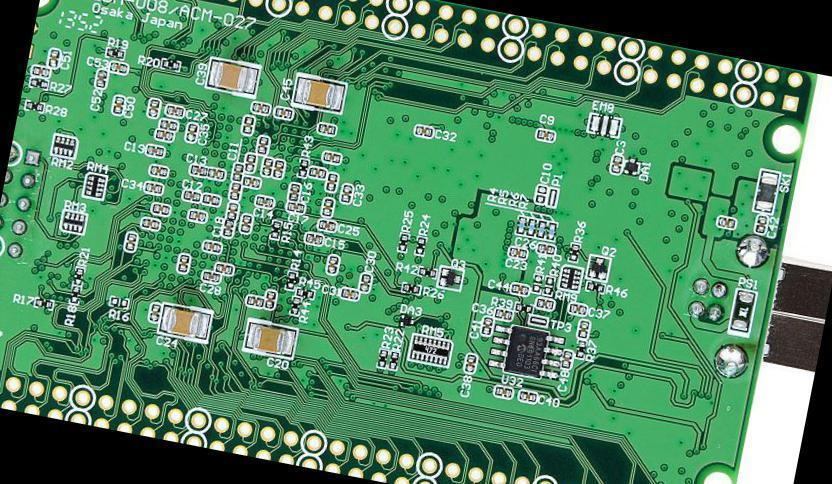Capacitor: (242, 317, 297, 359), (156, 302, 211, 342), (204, 57, 260, 96), (291, 73, 346, 112), (607, 152, 624, 175), (337, 183, 353, 206), (412, 122, 434, 138), (314, 120, 336, 136), (322, 170, 338, 192), (319, 194, 335, 216), (185, 207, 207, 223), (213, 260, 235, 276), (492, 382, 514, 398), (575, 317, 590, 340), (262, 287, 277, 310), (249, 99, 270, 115), (240, 113, 255, 135), (110, 94, 125, 116), (152, 127, 174, 142), (259, 155, 274, 177), (143, 143, 165, 158), (227, 179, 242, 201), (199, 191, 221, 206), (325, 253, 340, 275), (146, 300, 161, 322), (146, 97, 161, 118), (315, 216, 336, 231), (201, 239, 222, 254), (123, 231, 138, 252), (243, 151, 257, 173), (284, 199, 306, 213), (206, 165, 226, 180), (143, 179, 163, 194), (244, 293, 264, 308), (534, 127, 555, 141), (46, 47, 60, 68), (754, 213, 768, 234), (715, 214, 736, 228), (306, 164, 327, 178), (147, 163, 168, 177), (253, 194, 274, 208), (506, 245, 527, 259), (238, 212, 252, 233), (508, 281, 529, 295), (139, 216, 160, 230), (357, 271, 371, 292), (176, 252, 190, 273), (479, 314, 493, 335), (200, 269, 221, 283), (463, 352, 477, 373), (303, 230, 322, 245), (493, 306, 512, 321), (94, 68, 108, 88), (321, 150, 341, 164), (230, 161, 244, 181), (241, 174, 261, 188), (286, 182, 300, 202), (181, 188, 201, 202), (339, 286, 359, 300), (157, 117, 178, 130), (185, 121, 198, 142), (559, 348, 572, 369), (109, 60, 128, 74), (165, 103, 184, 117), (188, 163, 207, 177), (151, 201, 170, 215), (518, 389, 537, 403), (273, 106, 293, 119), (30, 64, 50, 77), (256, 134, 269, 154), (536, 242, 556, 255), (534, 296, 554, 309), (225, 200, 239, 218), (569, 302, 587, 316), (222, 219, 234, 236)
Connector: (45, 0, 808, 118), (0, 364, 728, 483), (27, 18, 45, 66)
Diode: (620, 153, 641, 175), (398, 311, 416, 328)
Electrolytic Capacitor: (270, 157, 285, 178)
IC: (483, 319, 567, 380)
Pads: (585, 112, 621, 137), (107, 292, 130, 308), (533, 183, 548, 205)
Pins: (0, 136, 47, 269), (682, 271, 732, 328), (706, 336, 752, 386), (728, 228, 773, 270)
Resistor: (406, 333, 452, 367), (81, 171, 106, 200), (58, 208, 87, 233), (49, 133, 77, 158), (557, 263, 582, 291), (375, 344, 389, 368), (541, 273, 555, 296), (566, 240, 580, 262), (413, 233, 427, 255), (386, 348, 399, 371), (416, 264, 437, 278), (104, 46, 124, 60), (160, 56, 180, 70), (27, 76, 48, 89), (296, 157, 309, 178), (530, 272, 543, 293), (512, 300, 533, 313), (535, 218, 547, 239), (23, 99, 43, 111), (515, 214, 527, 234), (396, 232, 408, 252), (400, 281, 420, 293), (284, 269, 296, 289), (33, 297, 52, 309), (269, 218, 280, 238), (289, 296, 300, 316), (586, 281, 604, 293), (295, 286, 313, 298), (72, 266, 84, 284), (526, 216, 537, 235), (545, 221, 556, 240), (69, 283, 80, 302), (575, 340, 585, 358)
Transistor: (436, 264, 463, 290), (586, 254, 610, 281)
